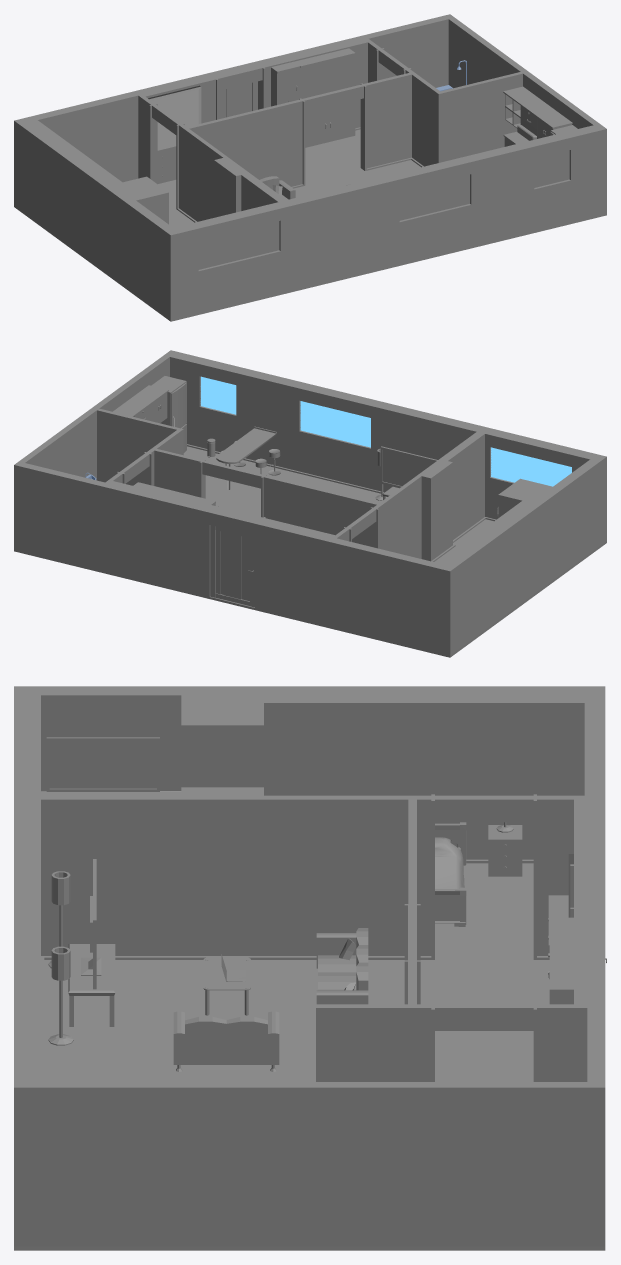
Rendered from Home.FBX.
3 views of the same model, one above another, from view 1: azimuth 30°, elevation 25°; view 2: azimuth 150°, elevation 25°; view 3: azimuth 270°, elevation 25° (orthographic). The views are drawn at different scales.
Parts seen in each view (by area): view 1: Building, Windows Glass, Hallway Wardrobe, Kitchen Cabinets, Hallway Mirror, Hallway Case, Front Door Frame, Hallway Closed Drawers, Living Sofa Big; view 2: Building, Windows Jalousie, Front Door Frame, Hallway TV Screen, Kitchen Cabinets, Kitchen Fridge, Kitchen Bar, Front Door Glass; view 3: Building, Cabinet PC Screen, Living Sofa Small, Living Sofa Big, Hallway TV Table, Bedroom Bed, Bedroom Drawer 001, Hallway Wardrobe, Living Table Little, Bed Covering, Living Tall Lamp 002, Hallway TV Screen (+1 smaller).
Part boxes in pixels (box(x1,y1,x2,y2)): Building: box(14, 14, 606, 321); Windows Glass: box(198, 150, 569, 269); Hallway Wardrobe: box(295, 48, 355, 147); Kitchen Cabinets: box(503, 86, 572, 146); Hallway Mirror: box(148, 85, 201, 145); Hallway Case: box(271, 61, 300, 106); Front Door Frame: box(226, 81, 257, 117); Hallway Closed Drawers: box(157, 141, 176, 183); Living Sofa Big: box(259, 176, 295, 199); Building: box(14, 350, 606, 657); Windows Jalousie: box(200, 376, 571, 486); Front Door Frame: box(210, 525, 254, 607); Hallway TV Screen: box(380, 446, 437, 488); Kitchen Cabinets: box(113, 385, 168, 423); Kitchen Fridge: box(151, 376, 186, 452); Kitchen Bar: box(216, 426, 276, 489); Front Door Glass: box(220, 531, 249, 601); Building: box(14, 686, 605, 1250); Cabinet PC Screen: box(46, 737, 159, 791); Living Sofa Small: box(173, 1011, 279, 1071); Living Sofa Big: box(316, 928, 368, 1004); Hallway TV Table: box(68, 944, 115, 1026); Bedroom Bed: box(435, 822, 466, 926); Bedroom Drawer 001: box(488, 825, 522, 876); Hallway Wardrobe: box(549, 939, 573, 1004); Living Table Little: box(203, 957, 250, 1015); Bed Covering: box(435, 839, 464, 888); Living Tall Lamp 002: box(48, 946, 73, 1045); Hallway TV Screen: box(81, 859, 101, 989).
Size of the model in its own units: 16.68 by 3.16 by 10.41.
